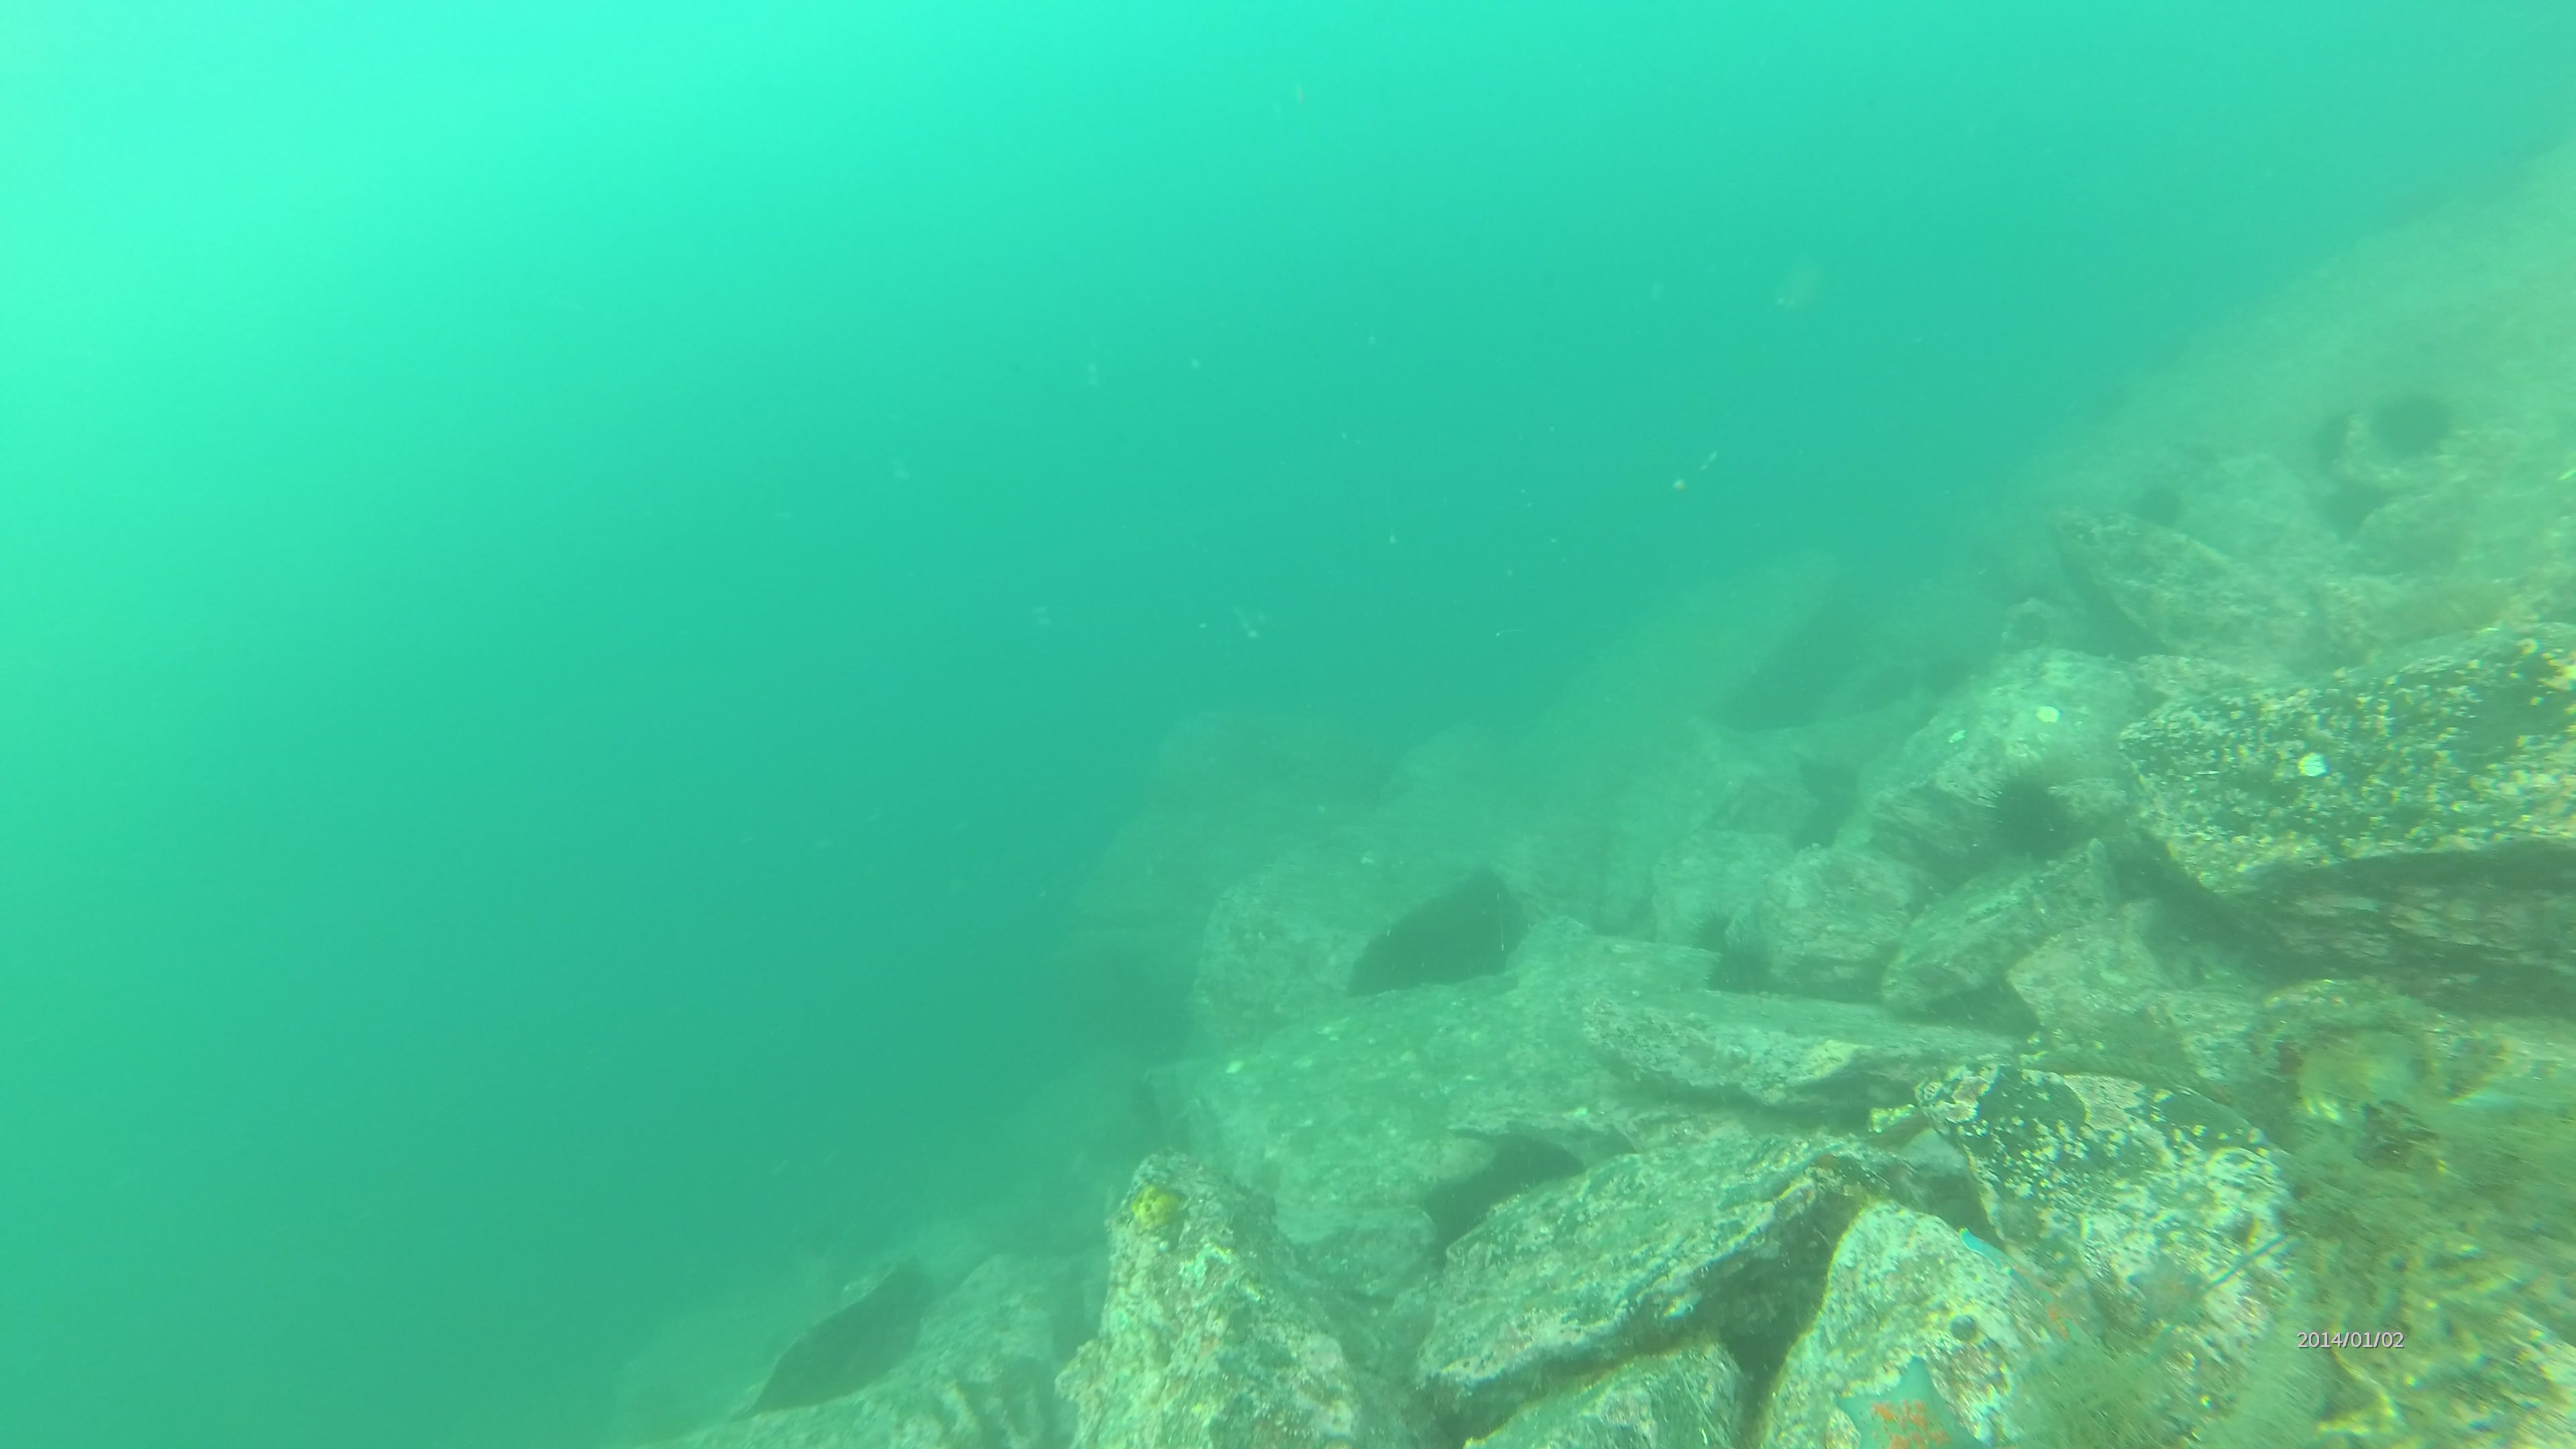echinus: (1983, 770, 2077, 865), (2371, 393, 2457, 471), (2127, 481, 2187, 538), (2311, 410, 2350, 472)
starfish: (1836, 1355, 1987, 1449), (1955, 1223, 2058, 1307), (2132, 1251, 2210, 1327)
